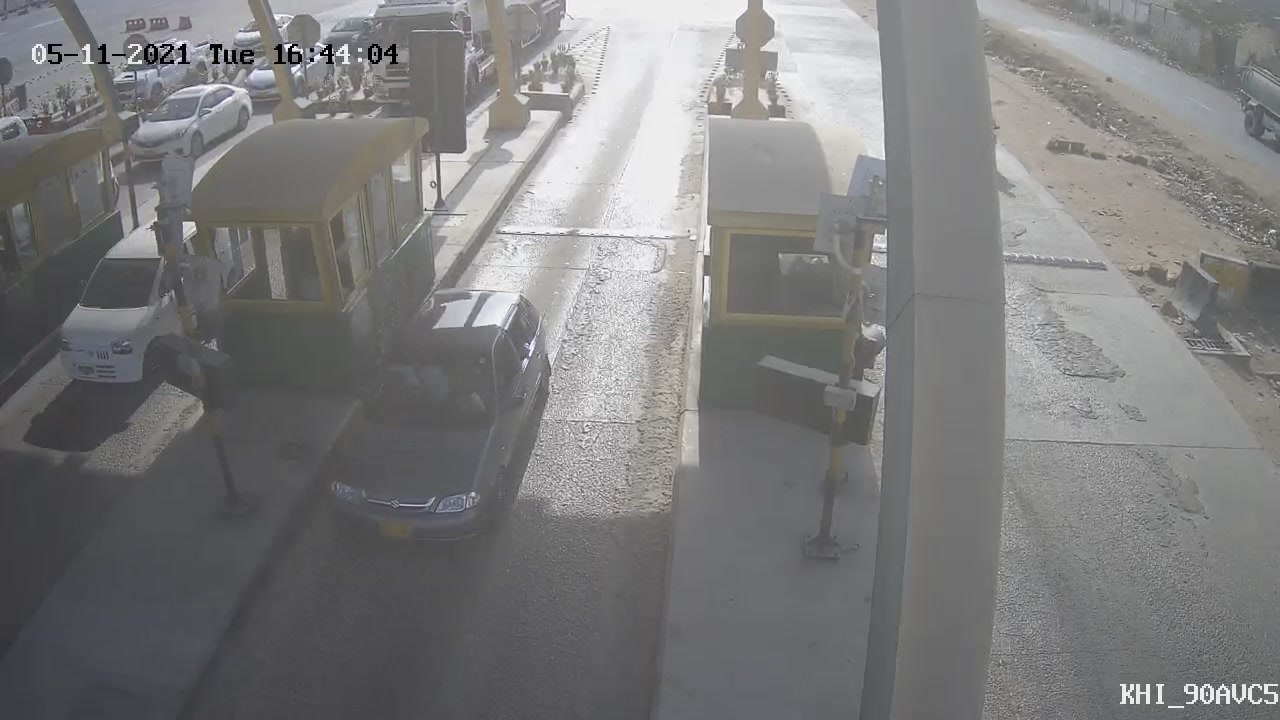F1: (308, 274, 568, 569)
